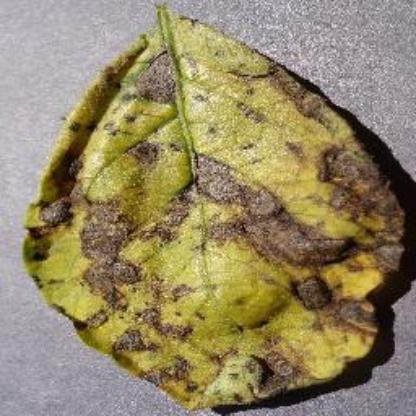Early-Blight: (24, 3, 406, 409)
